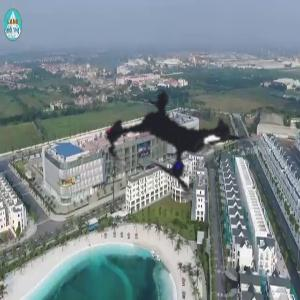drone: (63, 35, 283, 255)
